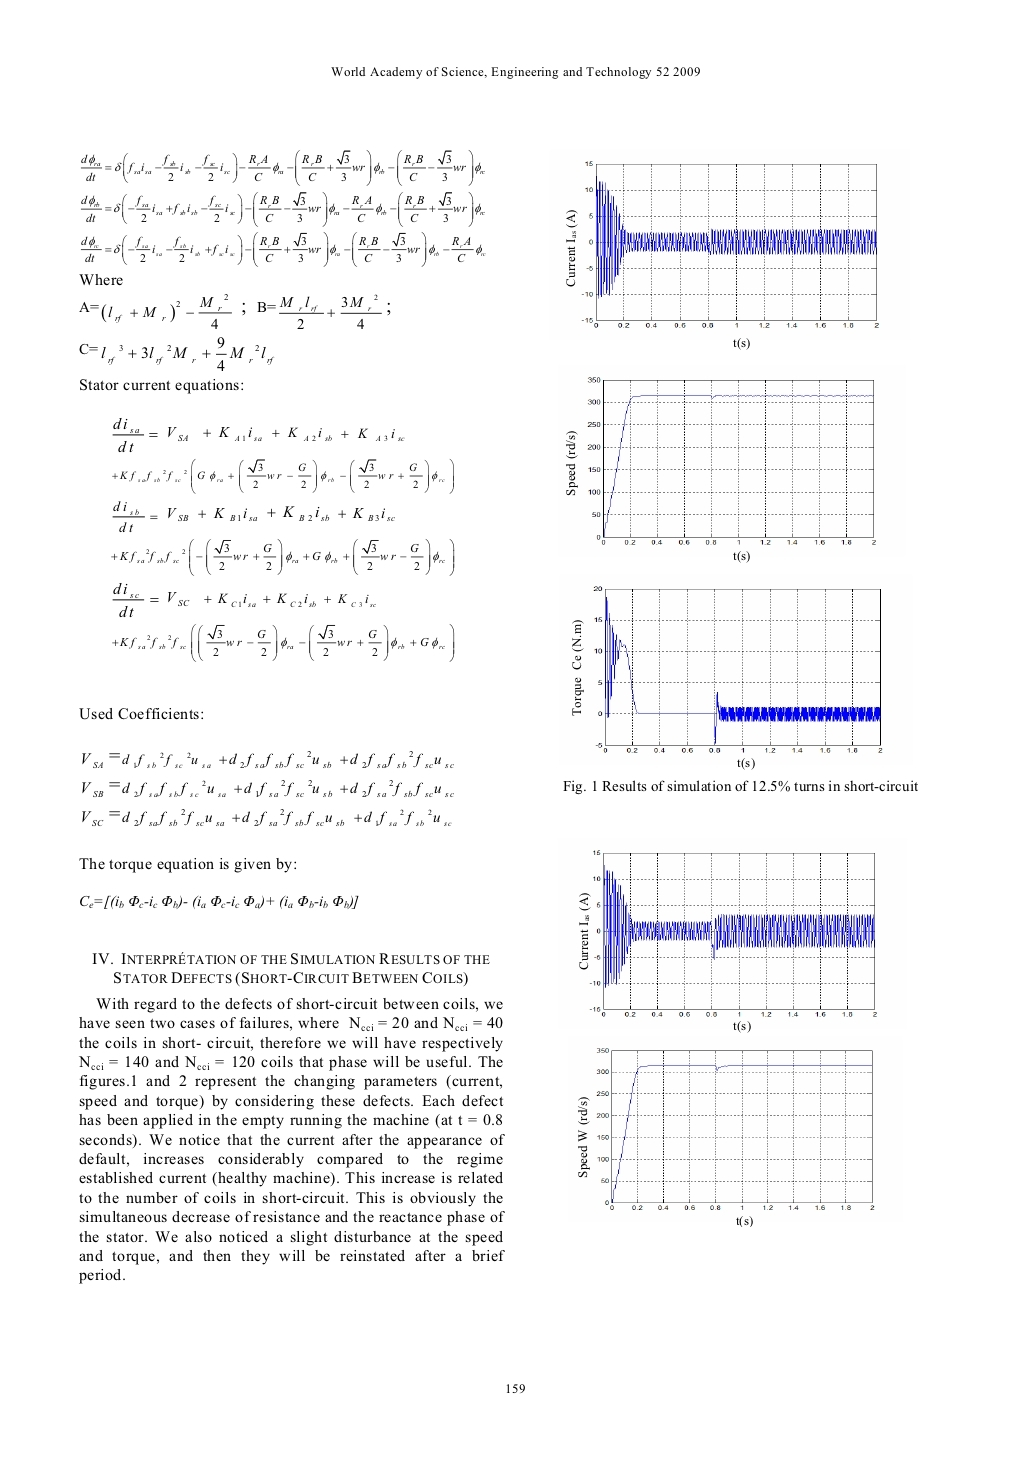figure: (566, 160, 878, 328), (572, 585, 882, 754), (566, 375, 875, 545), (579, 848, 876, 1017), (579, 1047, 875, 1210)
formula: (82, 148, 484, 186), (80, 231, 485, 267), (82, 191, 484, 227), (112, 622, 453, 662), (111, 538, 453, 576), (112, 458, 453, 495), (79, 292, 390, 329), (112, 417, 404, 453), (112, 582, 375, 618), (112, 500, 394, 532), (82, 778, 453, 797), (79, 335, 274, 371), (82, 750, 453, 768), (82, 808, 451, 826), (80, 894, 359, 909)
